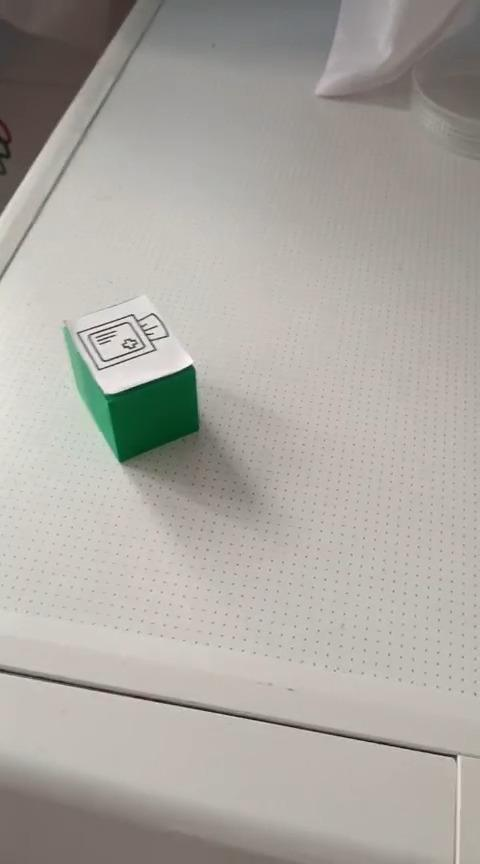Gauze: (60, 293, 200, 463)
